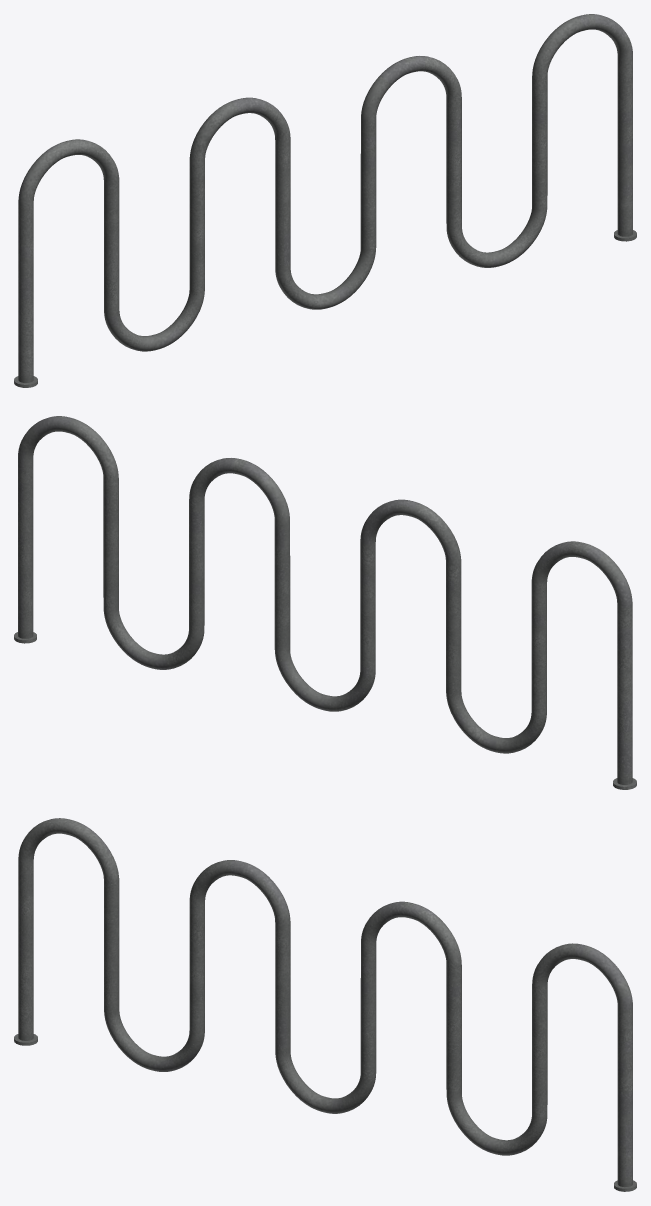
Rendered from prop_bike_rack.glb.
The picture shows the model from 3 angles, top to bottom: view 1: azimuth 30°, elevation 25°; view 2: azimuth 150°, elevation 25°; view 3: azimuth 330°, elevation 25°; orthographic projection.
Parts seen in each view (by area): view 1: Object_4; view 2: Object_4; view 3: Object_4.
Part boxes in pixels (<box>): Object_4: <box>14,14,636,387</box>; Object_4: <box>14,416,636,789</box>; Object_4: <box>14,818,636,1191</box>.
Bounding box in the file's own units: 2.12 × 0.7564 × 0.0723.
1 material, 1 textured.
